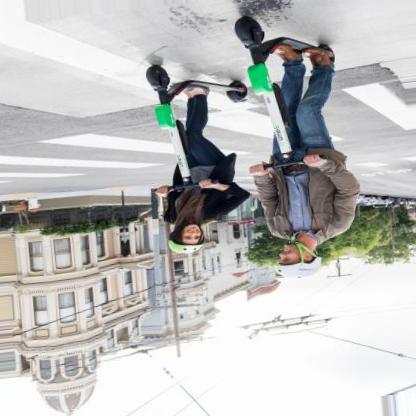scooter: (234, 14, 336, 181), (144, 63, 249, 193)
with helmet: (274, 242, 323, 280), (169, 224, 207, 257)
